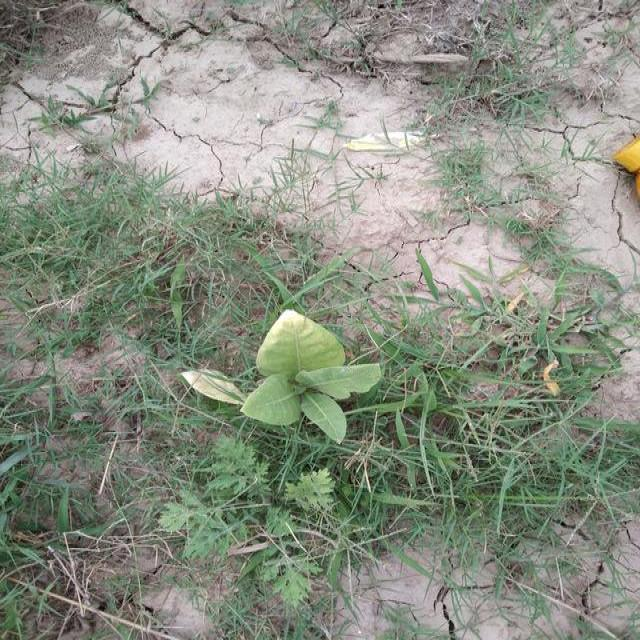crop: (185, 312, 382, 449)
